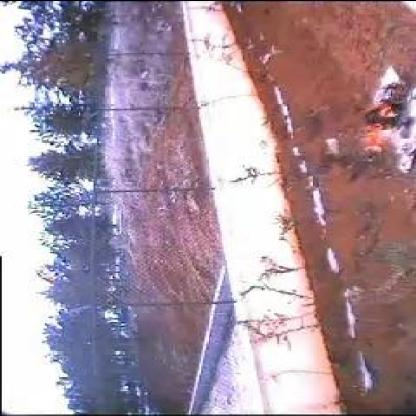foggia-v2-map80-epoch100 - v1 4323: (363, 123, 389, 151)
